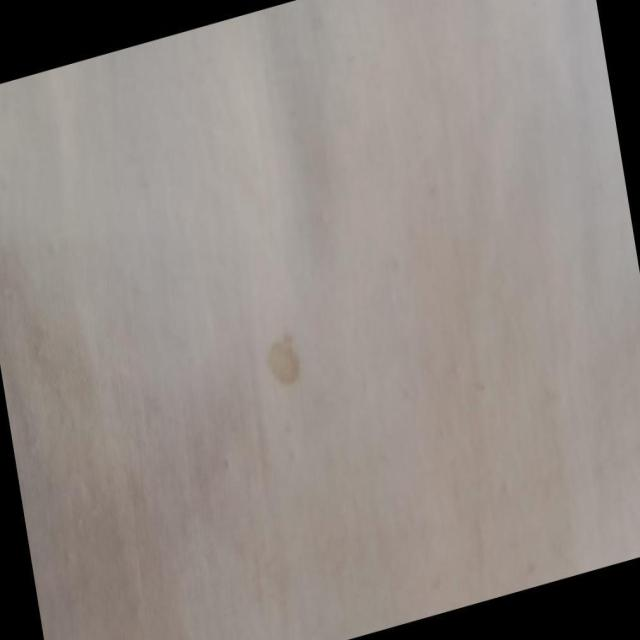stain: (259, 322, 310, 397)
